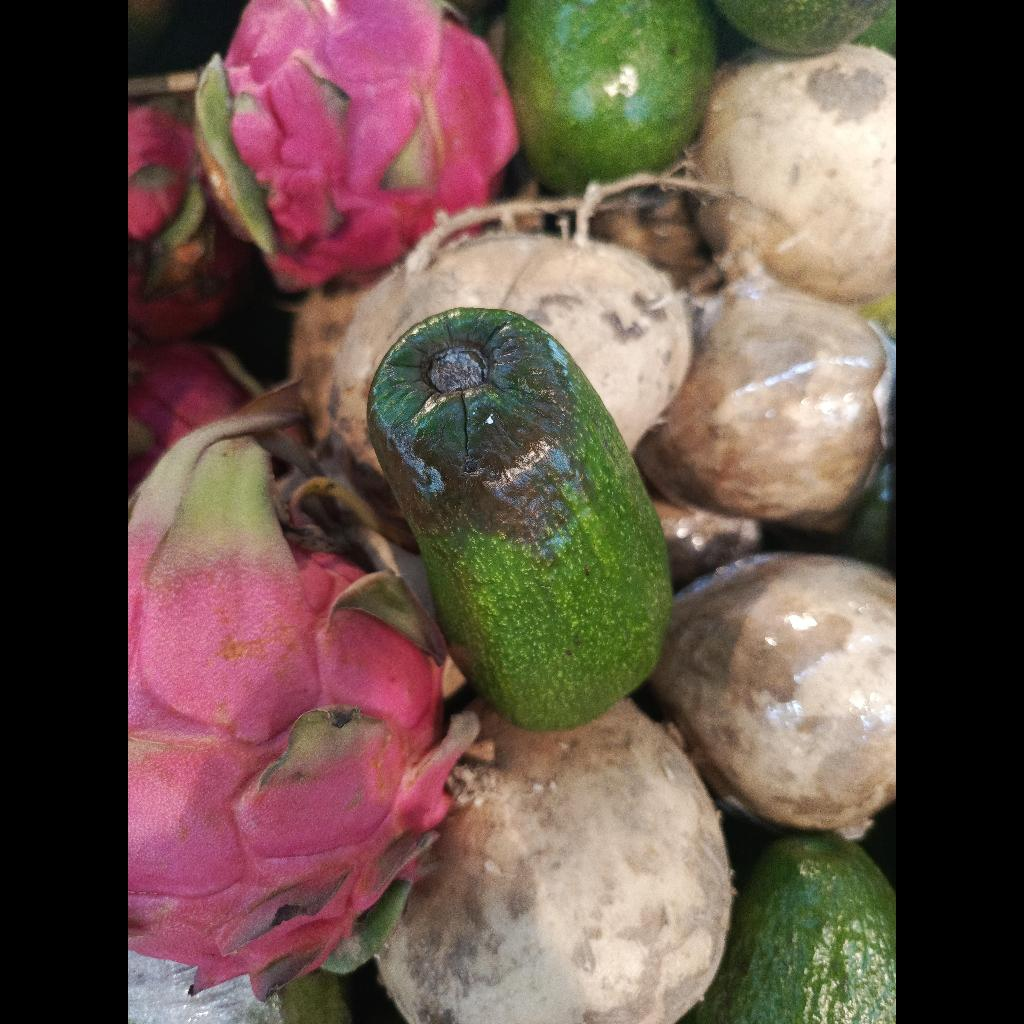pudricion_peduncular: (368, 308, 672, 731)
